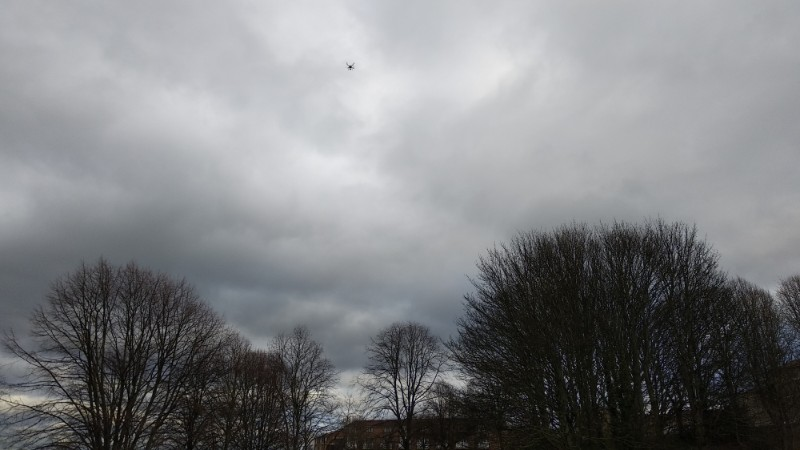drone: (344, 60, 357, 72)
